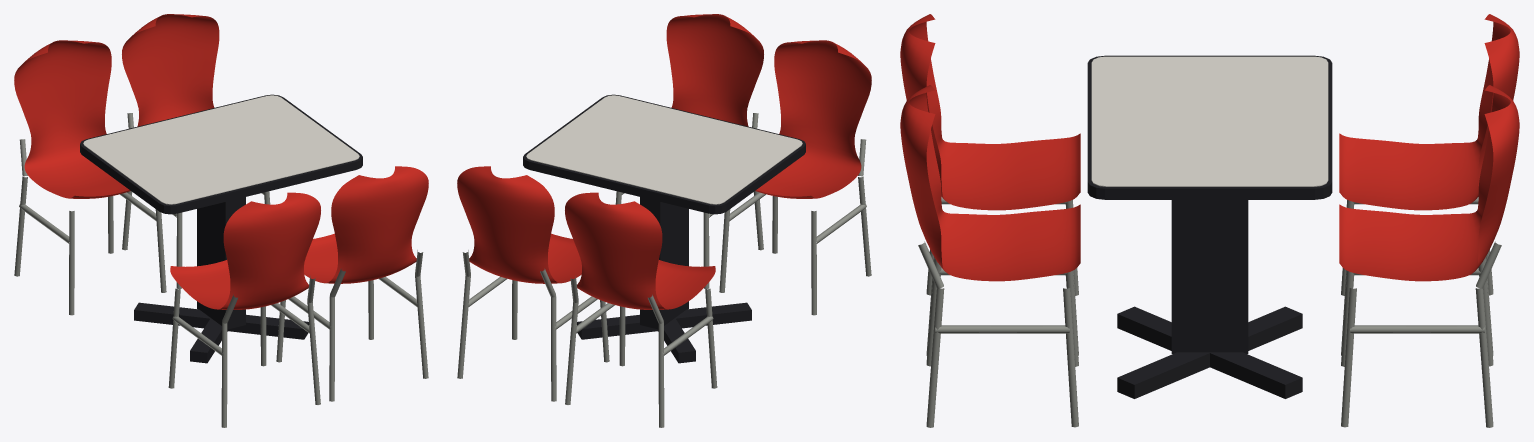
File: table_set.glb
3 renders of one model, left to right at view 1: azimuth 30°, elevation 25°; view 2: azimuth 150°, elevation 25°; view 3: azimuth 270°, elevation 25°, orthographic. The views are drawn at different scales.
Parts seen in each view (by area): view 1: plastic, laminate, chair_leg, steel; view 2: plastic, laminate, chair_leg, steel; view 3: plastic, laminate, steel, chair_leg.
Part boxes in pixels (x1=…): plastic: x1=14, y1=14, x2=428, y2=309; laminate: x1=83, y1=95, x2=359, y2=204; chair_leg: x1=14, y1=113, x2=428, y2=427; steel: x1=80, y1=94, x2=362, y2=363; plastic: x1=457, y1=14, x2=871, y2=309; laminate: x1=526, y1=95, x2=802, y2=204; chair_leg: x1=457, y1=113, x2=871, y2=427; steel: x1=523, y1=94, x2=805, y2=363; plastic: x1=900, y1=14, x2=1519, y2=281; laminate: x1=1091, y1=56, x2=1328, y2=186; steel: x1=1087, y1=55, x2=1332, y2=398; chair_leg: x1=918, y1=196, x2=1501, y2=427.
Size of what is drawn, in the model's own units: 0.9319 by 0.926 by 1.77.
